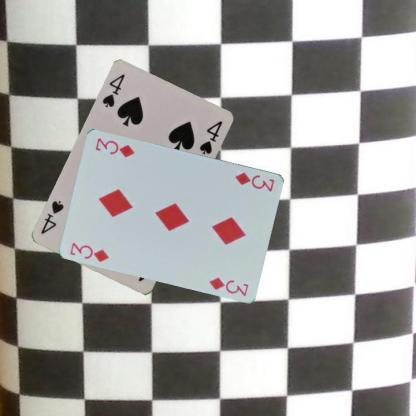3d: (233, 169, 276, 193), (68, 240, 112, 263)
4s: (100, 72, 126, 110)
